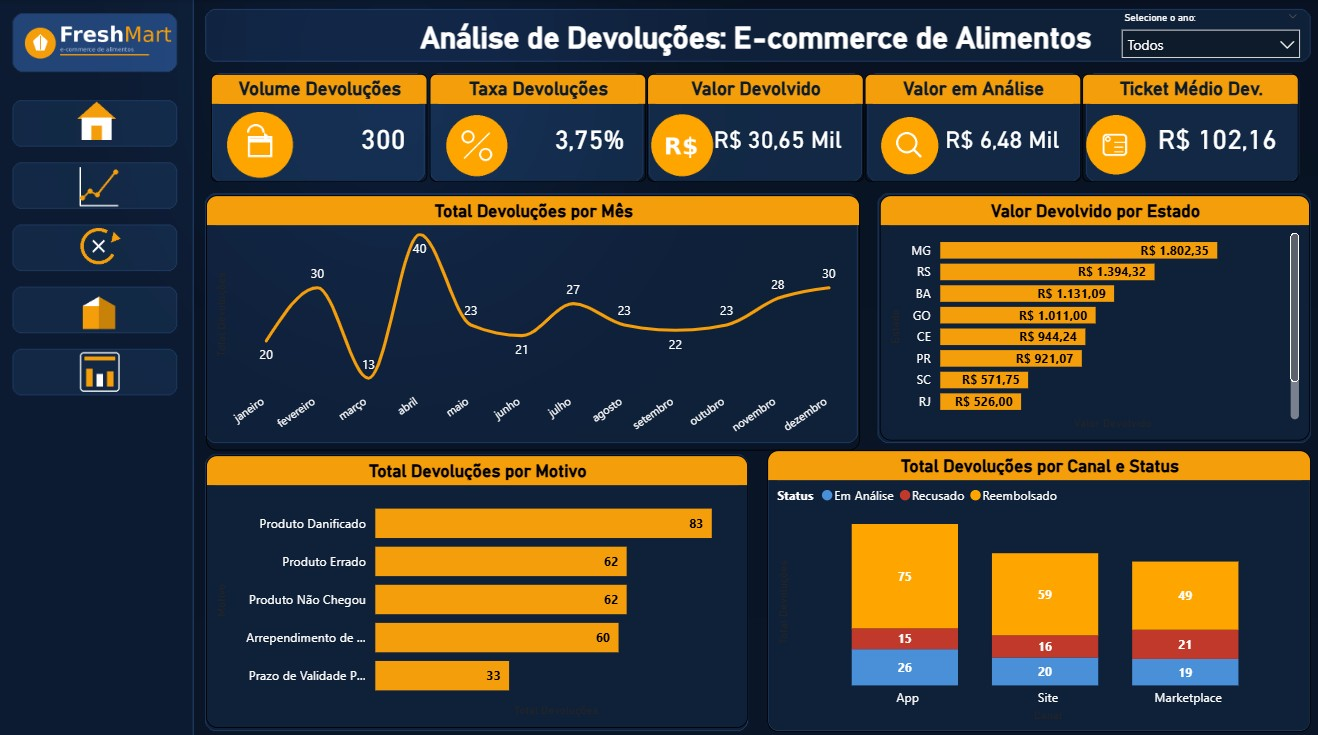

This screenshot's page, from the dashboard's own definition file:
{"tool":"powerbi","page":{"name":"Devoluções","canvas":[1280,720],"ordinal":2},"visuals":[{"type":"cardVisual","title":"Volume Devoluções","fields":{"Data":["fDevolucoes.Total Devoluções"]},"box":[207.5,72.5,208.8,103.8],"z":0},{"type":"cardVisual","title":"Taxa Devoluções","fields":{"Data":["fDevolucoes.Taxa de Devolução %"]},"box":[418.8,72.5,208.8,103.8],"z":1000},{"type":"cardVisual","title":"Valor Devolvido","fields":{"Data":["fDevolucoes.Valor Devolvido"]},"box":[628.8,72.5,208.8,103.8],"z":2000},{"type":"cardVisual","title":"Valor em Análise","fields":{"Data":["fDevolucoes.Valor em Análise"]},"box":[838.8,72.5,208.8,103.8],"z":3000},{"type":"cardVisual","title":"Ticket Médio Dev.","fields":{"Data":["fDevolucoes.Ticket Médio Devolvido"]},"box":[1048.8,72.5,208.8,103.8],"z":4000},{"type":"image","box":[18.8,1.2,155,82.5],"z":5000},{"type":"image","box":[27.5,92.5,138.8,48.8],"z":6000},{"type":"image","box":[22.5,155,152.5,52.5],"z":7000},{"type":"image","box":[66.2,197.5,65,81.2],"z":8000},{"type":"image","box":[71.2,278.8,56.2,46.2],"z":9000},{"type":"image","box":[75,332.5,50,53.8],"z":10000},{"type":"textbox","box":[386.1,15.7,694.9,53.1],"z":11000},{"type":"lineChart","fields":{"Y":["fDevolucoes.Total Devoluções"],"Category":["dCalendario.Data.Variation.Hierarquia de datas.Mês"]},"box":[202.1,189.3,631.4,246.4],"z":12000},{"type":"barChart","fields":{"Y":["fDevolucoes.Valor Devolvido"],"Category":["fDevolucoes.Estado"]},"box":[852.9,189.3,415,236.4],"z":13000},{"type":"barChart","fields":{"Category":["fDevolucoes.Motivo"],"Y":["fDevolucoes.Total Devoluções"]},"box":[202.1,440.7,523,262.9],"z":14000},{"type":"columnChart","fields":{"Category":["fDevolucoes.Canal"],"Y":["fDevolucoes.Total Devoluções"],"Series":["fDevolucoes.Status"]},"box":[744.3,435.7,525,272.1],"z":15000},{"type":"image","box":[196.6,107.4,115.8,66.4],"z":16000},{"type":"image","box":[433.1,109.8,61.5,62.7],"z":17000},{"type":"image","box":[618.9,109.8,86.9,62.7],"z":18000},{"type":"image","box":[853,108.6,57.9,65.1],"z":19000},{"type":"image","box":[1050.8,105,60.3,71.2],"z":20000},{"type":"slicer","fields":{"Values":["dCalendario.Ano"]},"box":[1076.2,7.5,192.5,65],"z":21000}]}

Visuals, with their boxes in screenshot pixels (x1, y1, x2, y2), scaled from the page's 1280x720 canvas onto the 1318x735 screenshot:
"Volume Devoluções" cardVisual: [214, 74, 429, 180]
"Taxa Devoluções" cardVisual: [431, 74, 646, 180]
"Valor Devolvido" cardVisual: [647, 74, 862, 180]
"Valor em Análise" cardVisual: [864, 74, 1079, 180]
"Ticket Médio Dev." cardVisual: [1080, 74, 1295, 180]
image: [19, 1, 179, 85]
image: [28, 94, 171, 144]
image: [23, 158, 180, 212]
image: [68, 202, 135, 285]
image: [73, 285, 131, 332]
image: [77, 339, 129, 394]
textbox: [398, 16, 1113, 70]
lineChart - fDevolucoes.Total Devoluções x dCalendario.Data.Variation.Hierarquia de datas.Mês: [208, 193, 858, 445]
barChart - fDevolucoes.Valor Devolvido x fDevolucoes.Estado: [878, 193, 1306, 435]
barChart - fDevolucoes.Motivo x fDevolucoes.Total Devoluções: [208, 450, 747, 718]
columnChart - fDevolucoes.Canal x fDevolucoes.Total Devoluções: [766, 445, 1307, 723]
image: [202, 110, 322, 177]
image: [446, 112, 509, 176]
image: [637, 112, 727, 176]
image: [878, 111, 938, 177]
image: [1082, 107, 1144, 180]
slicer - dCalendario.Ano: [1108, 8, 1306, 74]
